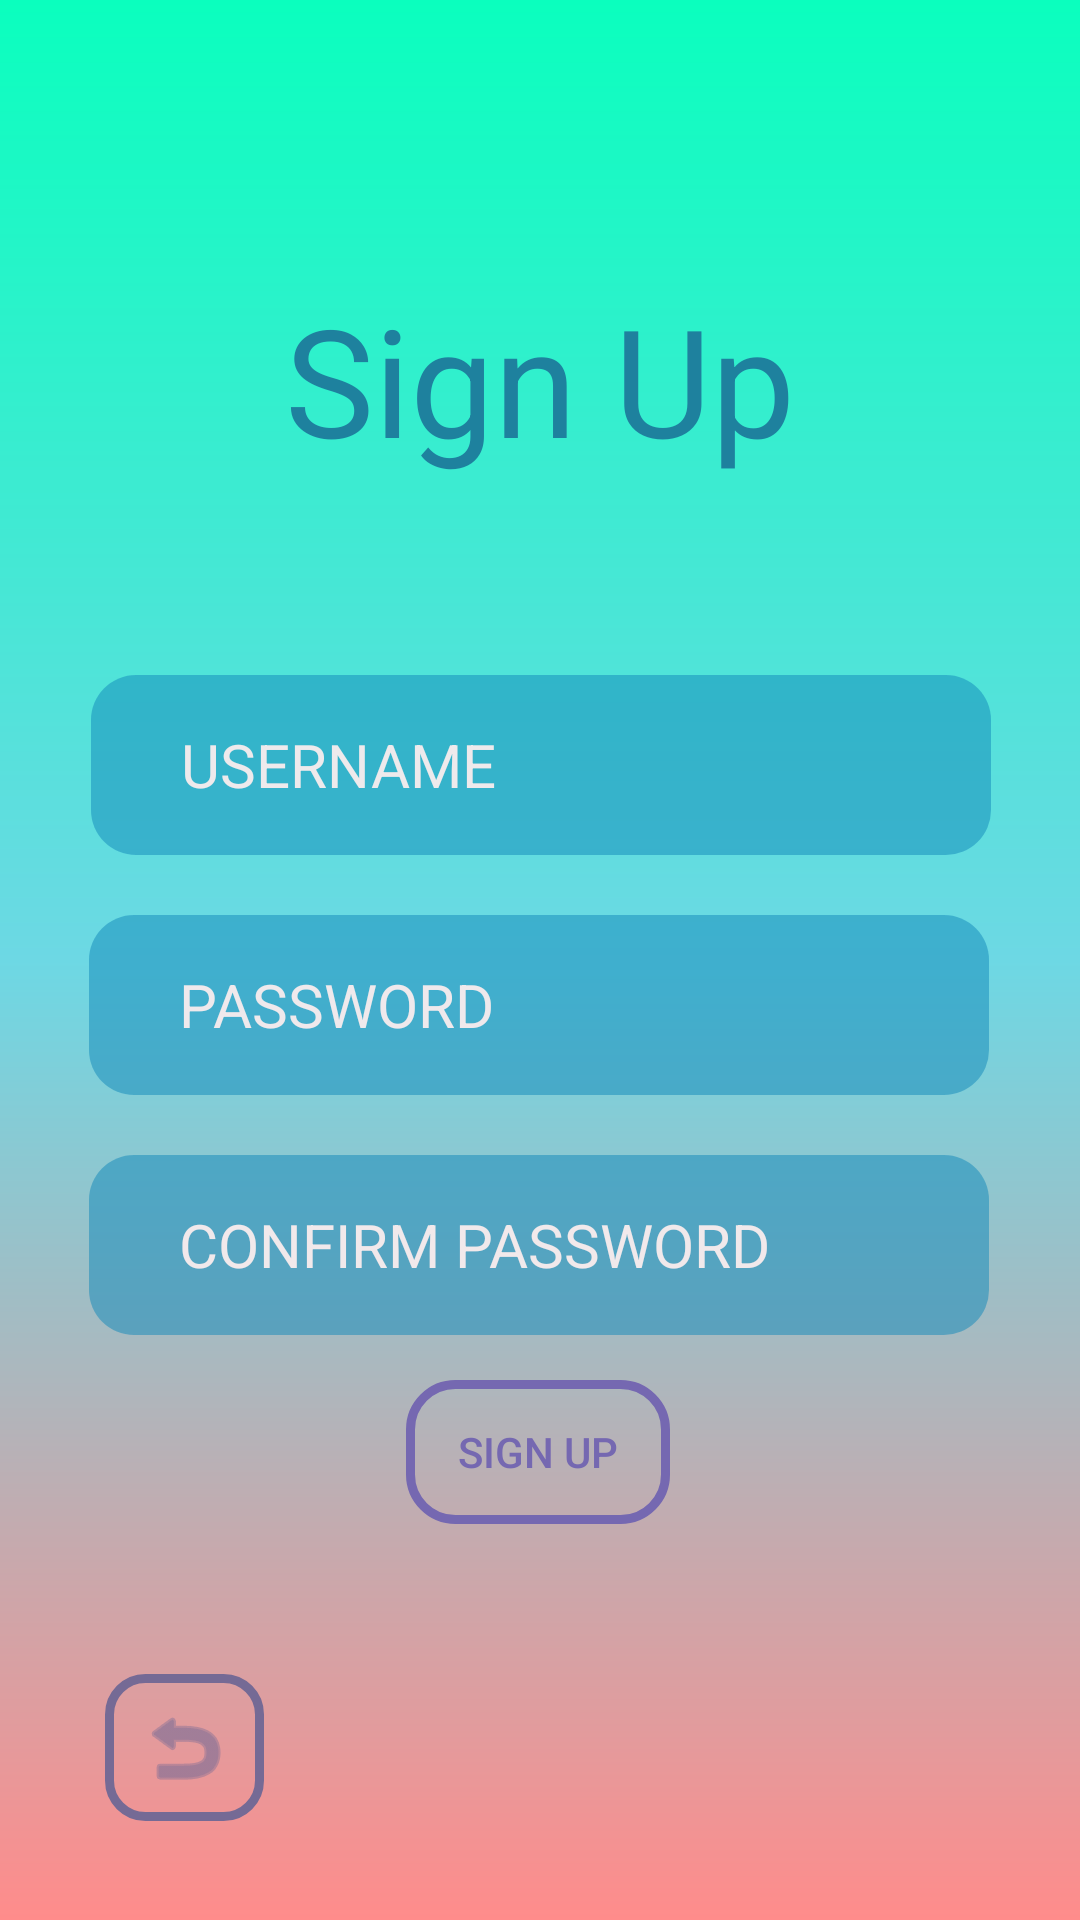

Named icons in this screenshot (1080×1920) and their bounding boxes, [x1,y1,x2,y2]:
revert: [105,1674,264,1821]
